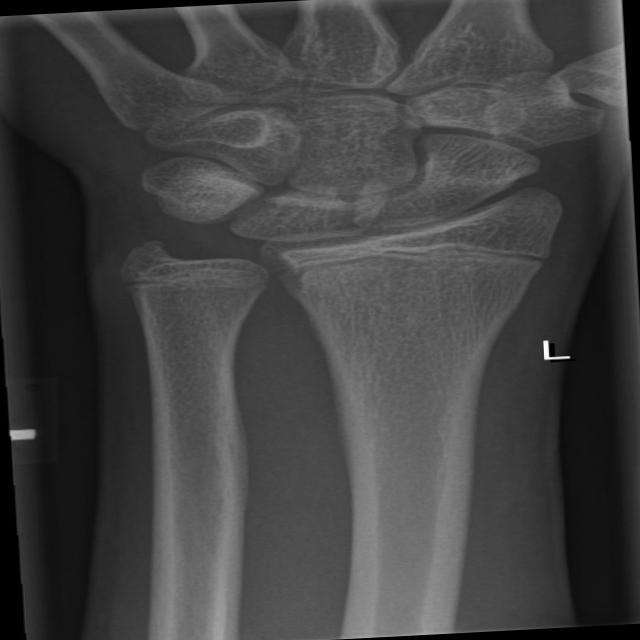fracture: (254, 230, 571, 290), (110, 254, 280, 305)
